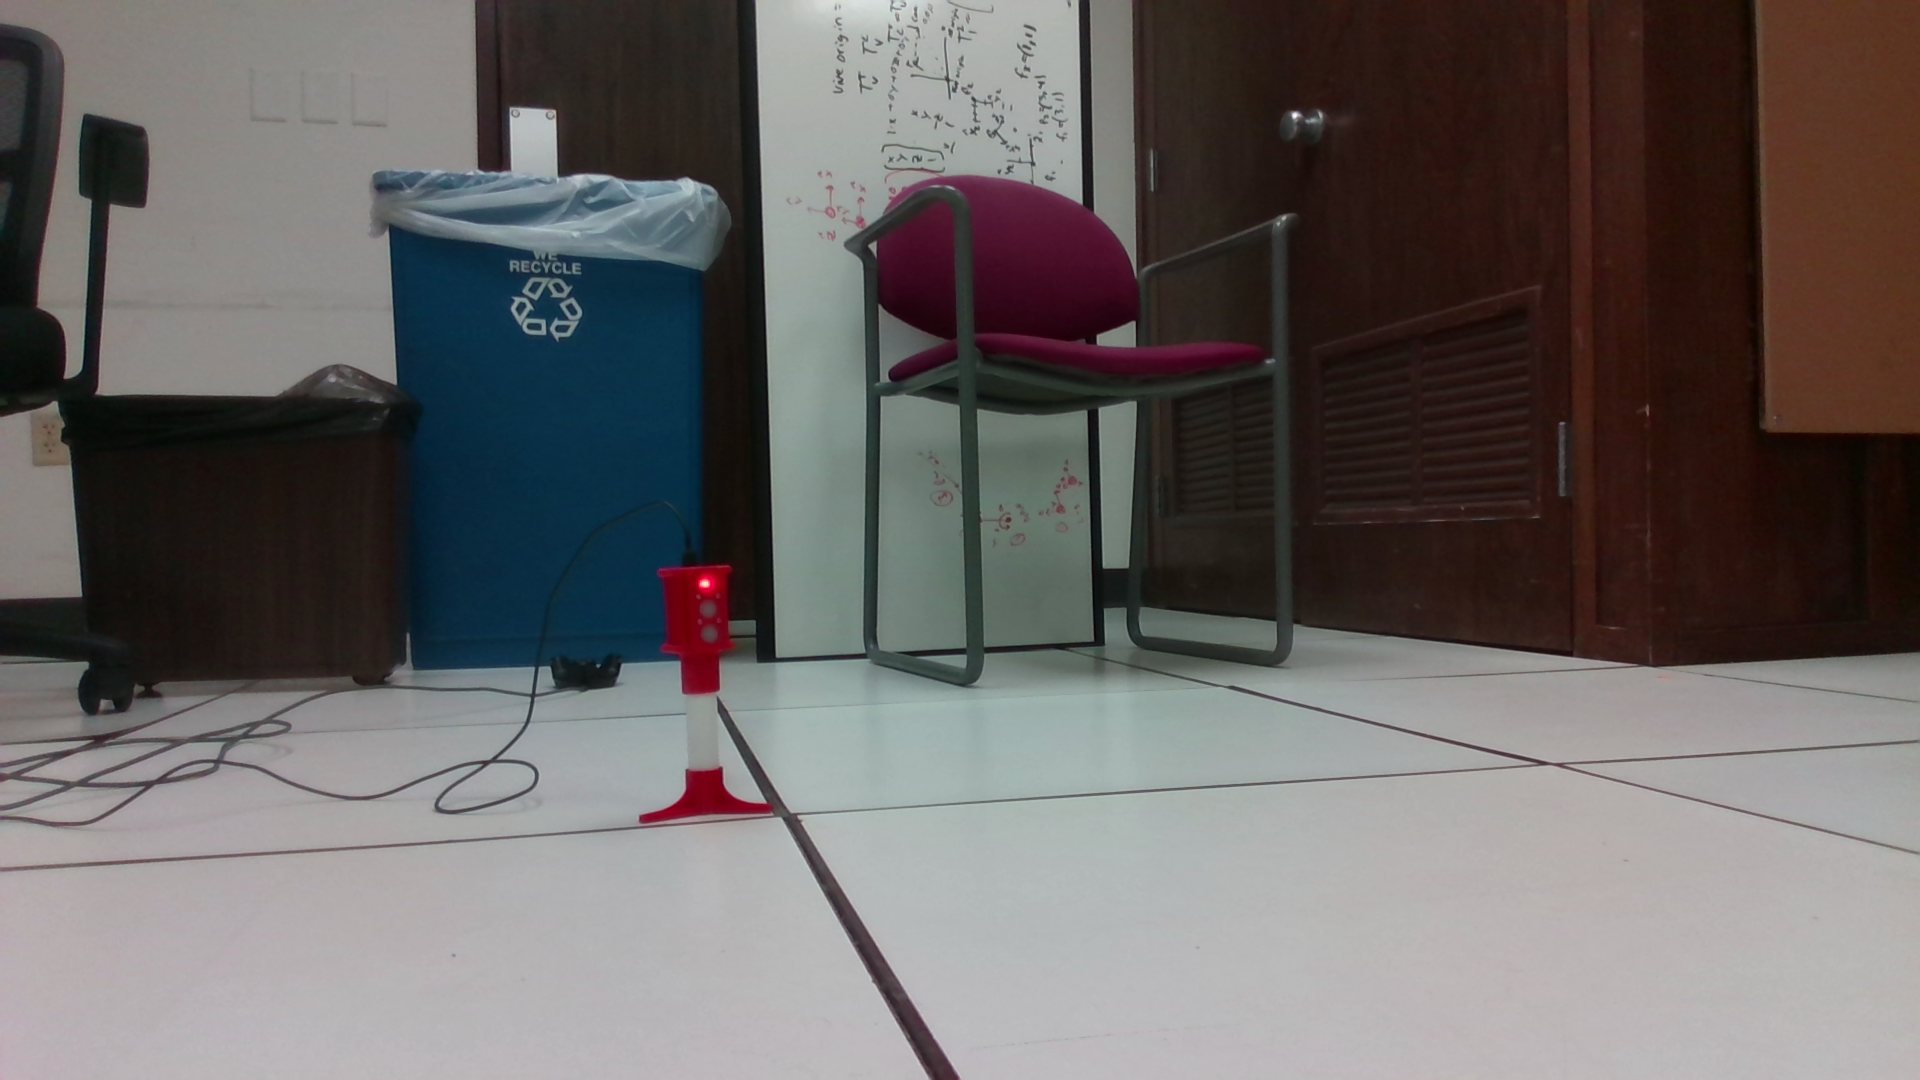stoplight: (659, 564, 737, 698)
